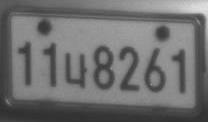1: (14, 40, 38, 86), (40, 42, 64, 88), (169, 48, 193, 94)
2: (118, 46, 140, 92)
6: (143, 46, 167, 94)
8: (92, 45, 116, 90)
나: (64, 51, 88, 89)
